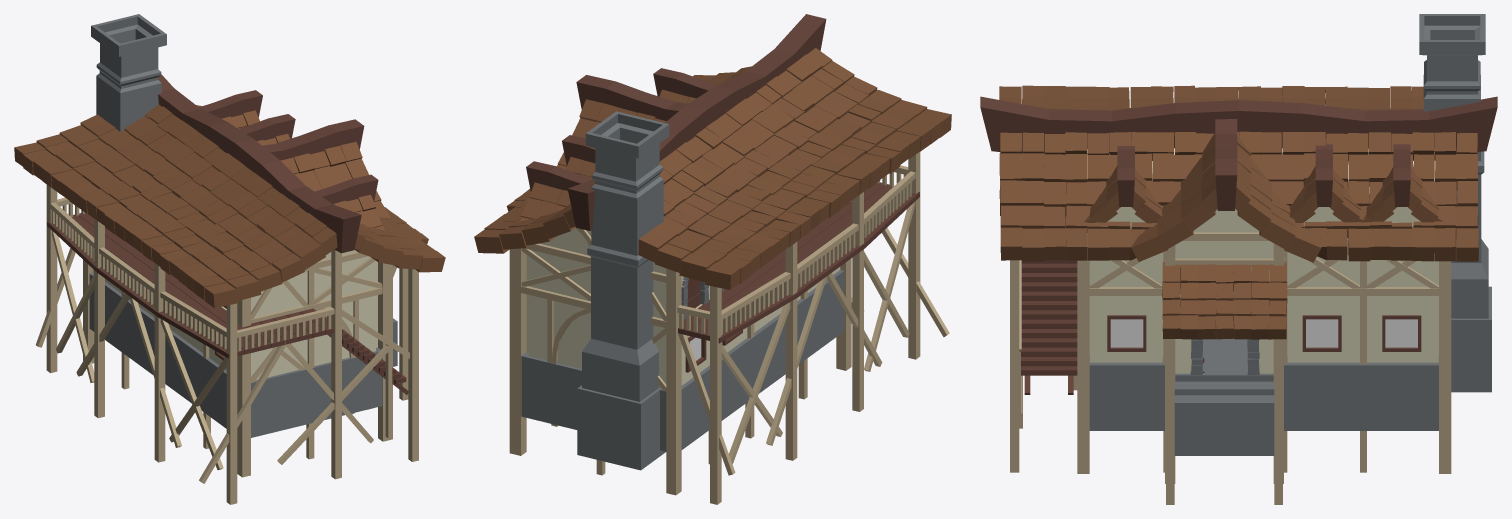
Rendered from fang03_9.fbx.
3 renders of one model, left to right at view 1: azimuth 30°, elevation 25°; view 2: azimuth 150°, elevation 25°; view 3: azimuth 270°, elevation 25°, orthographic. The views are drawn at different scales.
Parts seen in each view (by area): view 1: 立方体.124, 立方体.053, 立方体.028, 立方体.033, 立方体.015, 立方体.056, Cube, 立方体.066, 立方体.057, 立方体.054, 立方体.073, 立方体.027 (+2 smaller); view 2: 立方体.124, 立方体.015, 立方体.053, 立方体.033, 立方体.028, Cube, 立方体.056, 立方体.057, 立方体.066, 立方体.054, 立方体.019, 立方体.073; view 3: 立方体.124, 立方体.033, Cube, 立方体.056, 立方体.053, 立方体.051, 立方体.015, 立方体.073, 立方体.049, 立方体.054, 立方体.057, 立方体.027 (+6 smaller).
Boxes of the visible parts, x1,y1,x2,y2 form: 立方体.124: [14, 104, 445, 308]; 立方体.053: [46, 184, 418, 504]; 立方体.028: [36, 197, 409, 483]; 立方体.033: [89, 273, 397, 437]; 立方体.015: [91, 14, 166, 131]; 立方体.056: [158, 74, 361, 253]; Cube: [93, 250, 377, 380]; 立方体.066: [47, 213, 334, 358]; 立方体.057: [199, 90, 378, 203]; 立方体.054: [251, 251, 382, 382]; 立方体.073: [280, 141, 390, 218]; 立方体.027: [393, 265, 408, 400]; 立方体.124: [474, 48, 951, 289]; 立方体.015: [582, 111, 669, 401]; 立方体.053: [509, 152, 920, 504]; 立方体.033: [521, 270, 844, 470]; 立方体.028: [677, 165, 949, 475]; Cube: [526, 228, 840, 388]; 立方体.056: [567, 14, 826, 230]; 立方体.057: [526, 68, 717, 191]; 立方体.066: [678, 182, 919, 343]; 立方体.054: [521, 227, 666, 390]; 立方体.019: [519, 182, 570, 221]; 立方体.073: [557, 99, 666, 169]; 立方体.124: [999, 85, 1478, 261]; 立方体.033: [1089, 286, 1491, 455]; Cube: [1087, 148, 1438, 373]; 立方体.056: [980, 96, 1497, 154]; 立方体.053: [1010, 155, 1451, 483]; 立方体.051: [1162, 262, 1287, 339]; 立方体.015: [1419, 14, 1488, 318]; 立方体.073: [1131, 133, 1321, 262]; 立方体.049: [1021, 260, 1077, 394]; 立方体.054: [1089, 232, 1438, 295]; 立方体.057: [1117, 119, 1410, 210]; 立方体.027: [1166, 339, 1282, 504].
Size of the model in its own units: 1105 by 1170 by 1431.
